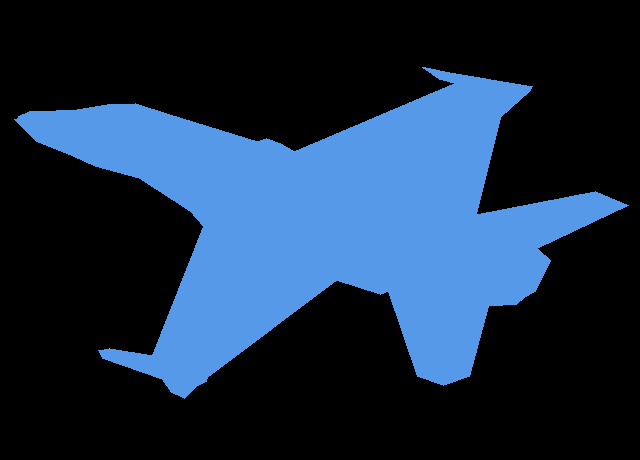Airplane: (14, 67, 629, 399)
